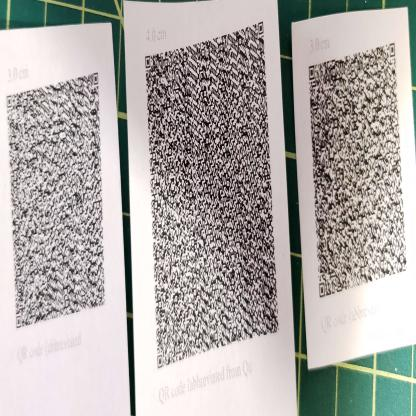qr: (142, 19, 283, 371), (4, 68, 108, 333), (304, 39, 409, 299)
